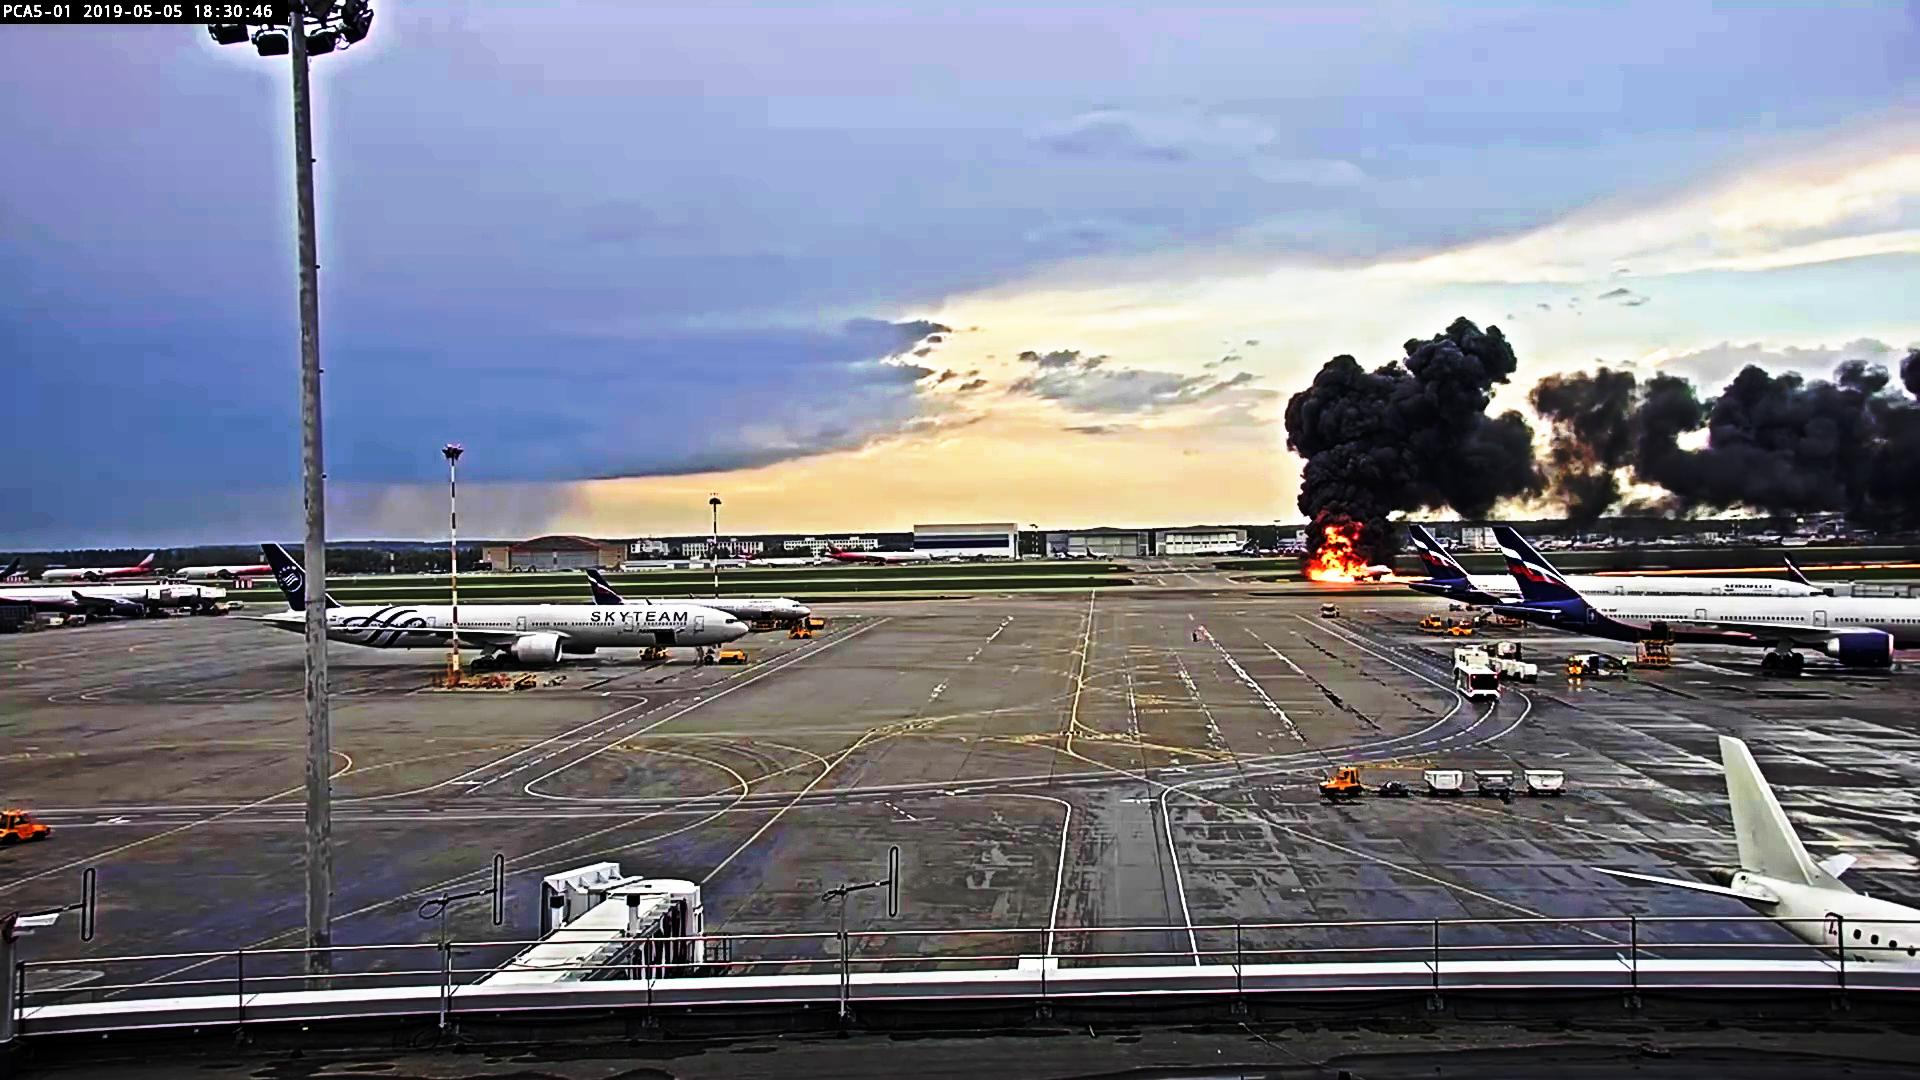fire: (1303, 524, 1387, 576)
smoke: (1531, 356, 1899, 534), (1278, 326, 1549, 521)
